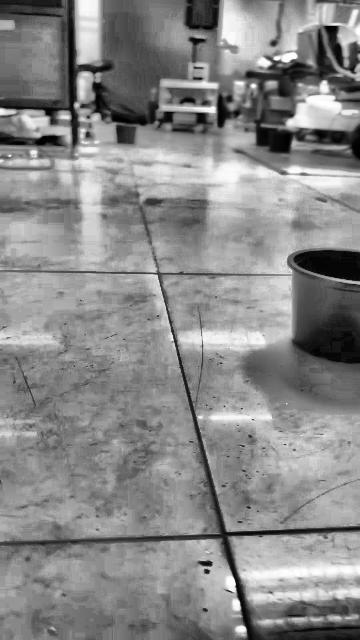pot: (288, 249, 360, 365)
